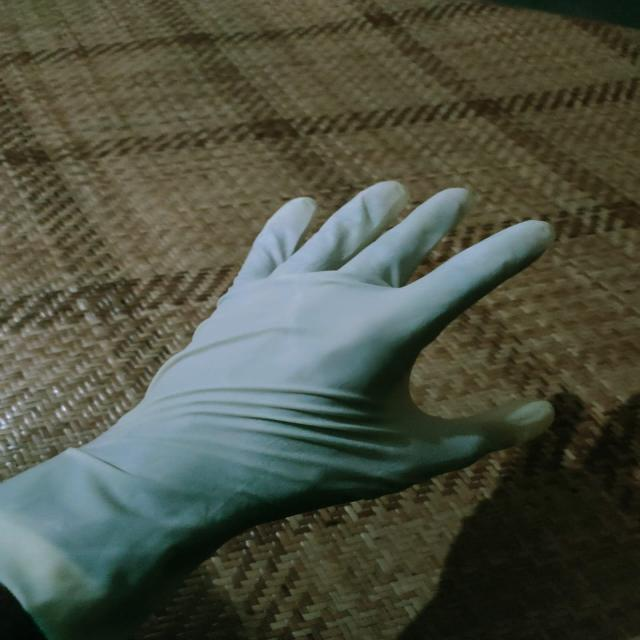glove_hand: (3, 175, 562, 639)
